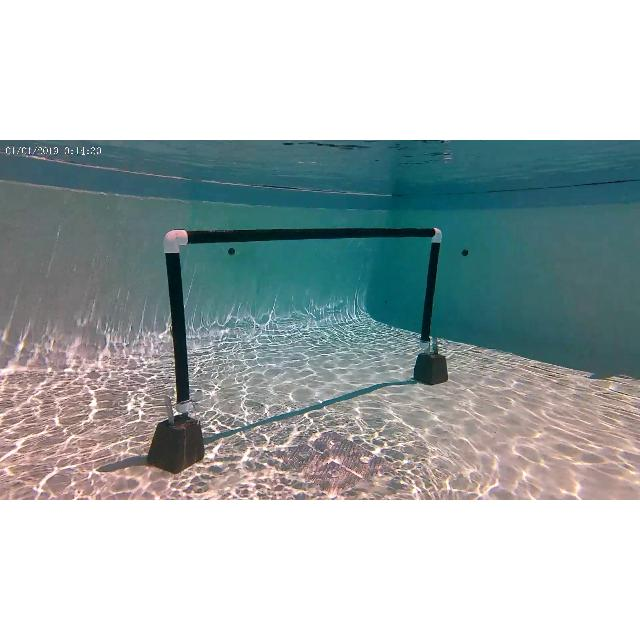prequal gate: (164, 226, 442, 414)
prequal gate leg l: (159, 230, 199, 466)
prequal gate leg r: (417, 228, 448, 374)
